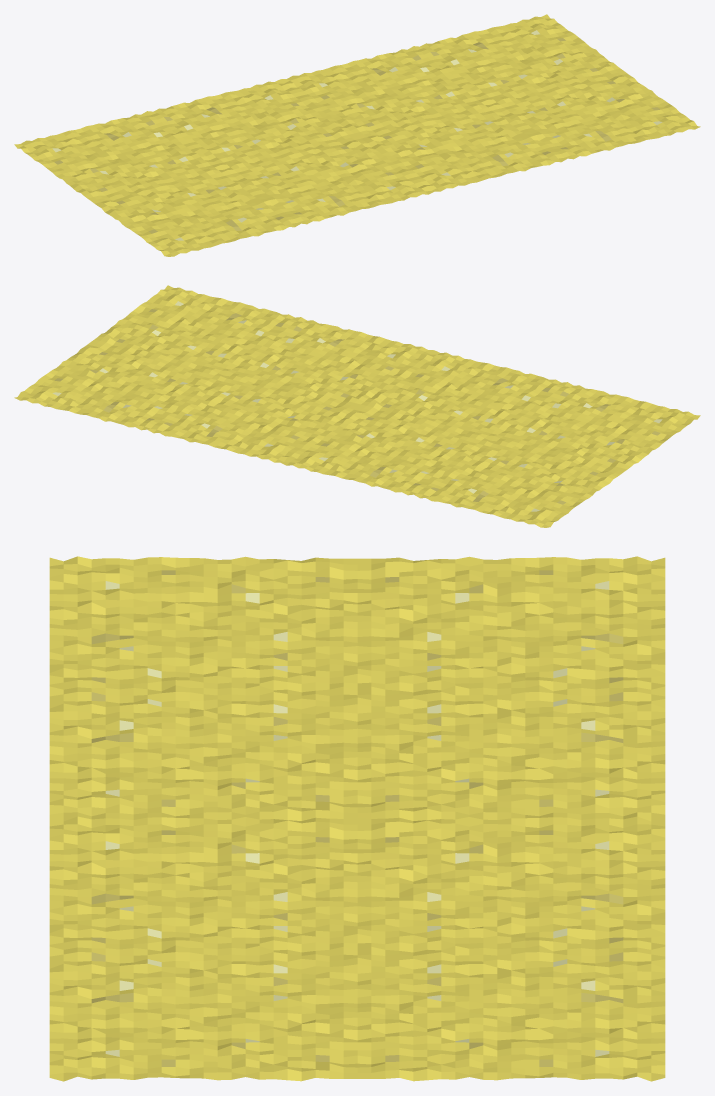
File: beach.glb
3 renders of one model, top to bottom at view 1: azimuth 30°, elevation 25°; view 2: azimuth 150°, elevation 25°; view 3: azimuth 270°, elevation 25°, orthographic. The views are drawn at different scales.
Visible parts, largest first — view 1: Plane; view 2: Plane; view 3: Plane.
Boxes of the visible parts, x1,y1,x2,y2 form: Plane: (14,14,700,256); Plane: (14,285,700,527); Plane: (49,556,665,1081).
Size of the model in its own units: 8 by 0.0591 by 4.
